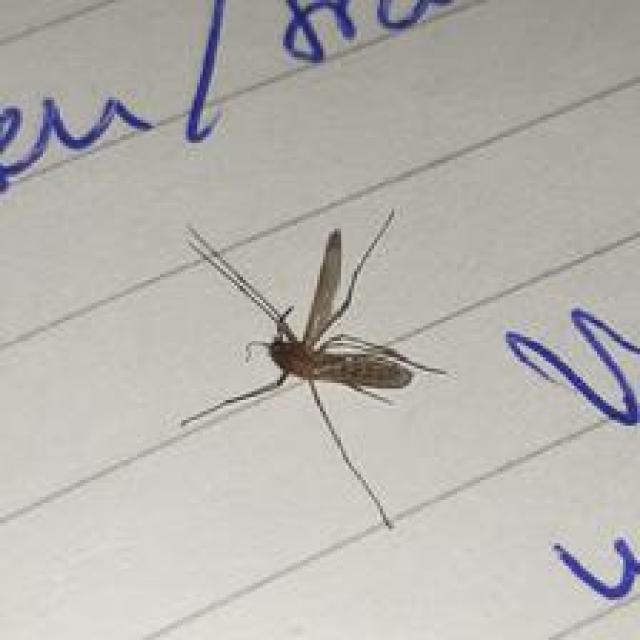Culex: (177, 207, 449, 530)
